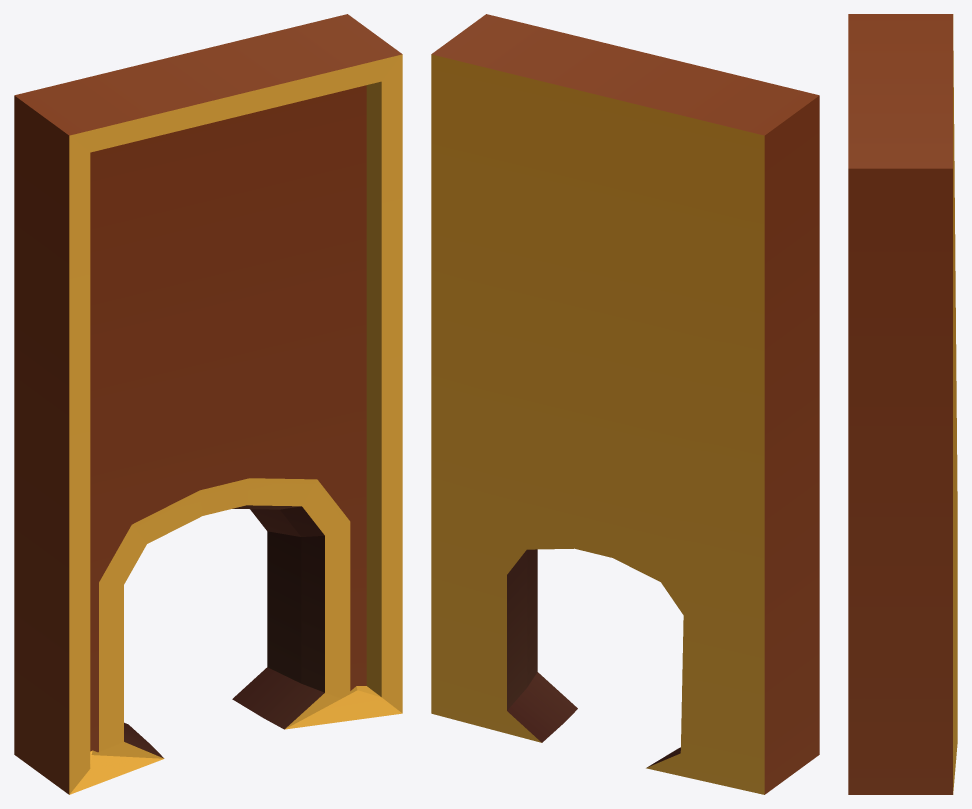
Rendered from WallBigDoor.fbx.
3 views of the same model, side by side, from view 1: azimuth 30°, elevation 25°; view 2: azimuth 150°, elevation 25°; view 3: azimuth 270°, elevation 25° (orthographic). The views are drawn at different scales.
Visible parts, largest first — view 1: WallBigDoor_LOD0; view 2: WallBigDoor_LOD0; view 3: WallBigDoor_LOD0.
Part boxes in pixels (left/top/right/bottom): WallBigDoor_LOD0: left=14, top=14, right=402, bottom=794; WallBigDoor_LOD0: left=431, top=14, right=819, bottom=794; WallBigDoor_LOD0: left=848, top=14, right=957, bottom=794.
Size of what is drawn, in the model's own units: 465 by 879 by 139.
